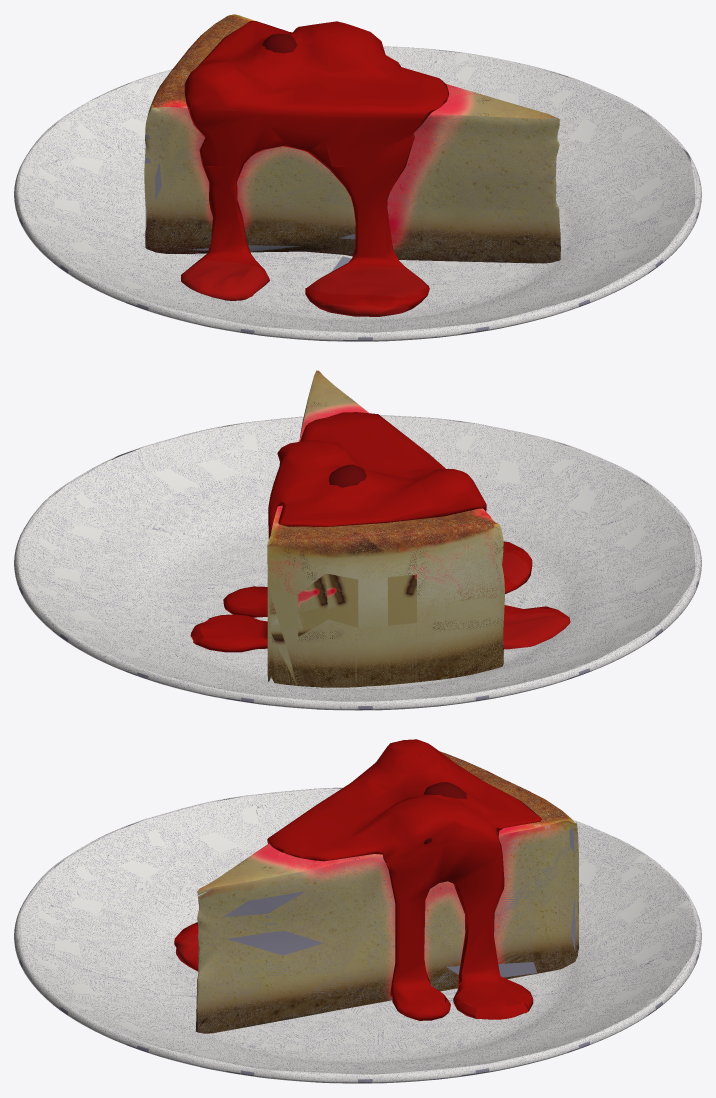
The model's file is cakeSlice.fbx.
The picture shows the model from 3 angles, top to bottom: view 1: azimuth 30°, elevation 25°; view 2: azimuth 150°, elevation 25°; view 3: azimuth 270°, elevation 25°; orthographic projection.
Visible parts, largest first — view 1: archmodel5, archmodel4, archmodels, archmodel0; view 2: archmodel5, archmodel4, archmodels, archmodel0; view 3: archmodel5, archmodel4, archmodels, archmodel0.
Boxes of the visible parts, left/top/right/bottom form: archmodel5: left=14, top=46, right=701, bottom=341; archmodel4: left=144, top=14, right=560, bottom=263; archmodels: left=181, top=21, right=448, bottom=316; archmodel0: left=262, top=33, right=297, bottom=53; archmodel5: left=14, top=415, right=701, bottom=710; archmodel4: left=267, top=370, right=504, bottom=687; archmodels: left=190, top=412, right=570, bottom=652; archmodel0: left=279, top=463, right=426, bottom=487; archmodel5: left=14, top=787, right=701, bottom=1083; archmodel4: left=195, top=751, right=578, bottom=1033; archmodels: left=174, top=739, right=542, bottom=1020; archmodel0: left=419, top=755, right=466, bottom=844.
Size of the model in its own units: 45.89 by 13.85 by 45.88.
